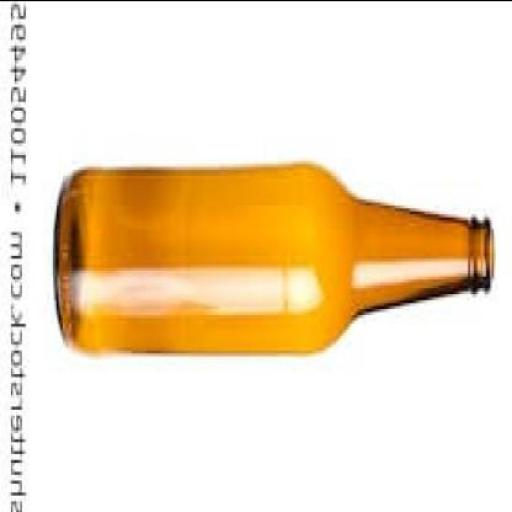glass: (58, 168, 496, 356)
